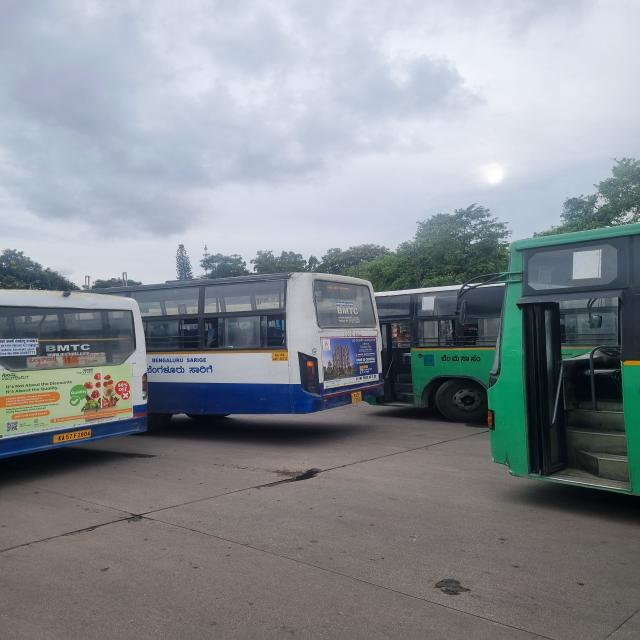bus: (493, 216, 640, 552), (143, 276, 386, 442), (1, 280, 152, 468), (367, 272, 524, 422)
